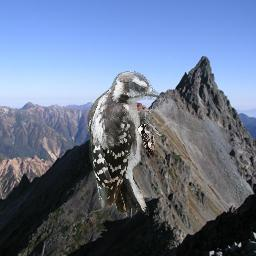Woodpecker: (88, 71, 163, 218), (137, 121, 155, 157)
